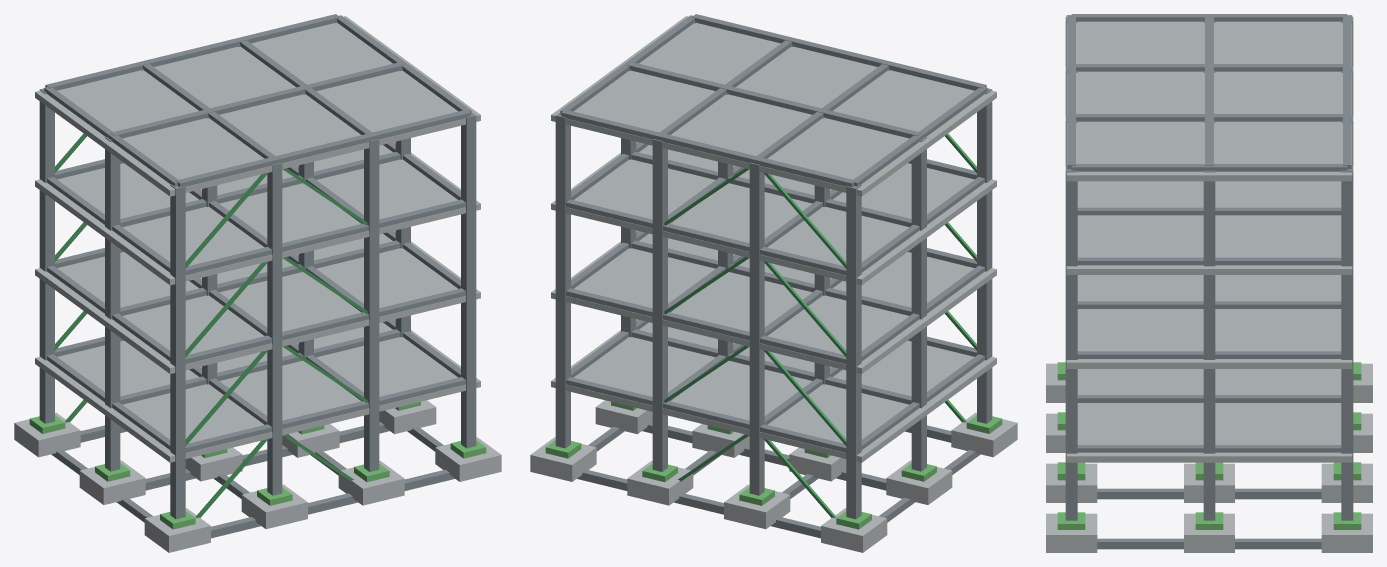
File: 03_multistorey_structural_frame.glb
3 renders of one model, left to right at view 1: azimuth 30°, elevation 25°; view 2: azimuth 150°, elevation 25°; view 3: azimuth 270°, elevation 25°, orthographic. The views are drawn at different scales.
Visible parts, largest first — view 1: world; view 2: world; view 3: world.
Boxes of the visible parts, left/top/right/bottom form: world: left=14, top=14, right=501, bottom=552; world: left=530, top=14, right=1017, bottom=552; world: left=1046, top=14, right=1372, bottom=552.
Size of the model in its own units: 4.12 by 4.29 by 3.32.
